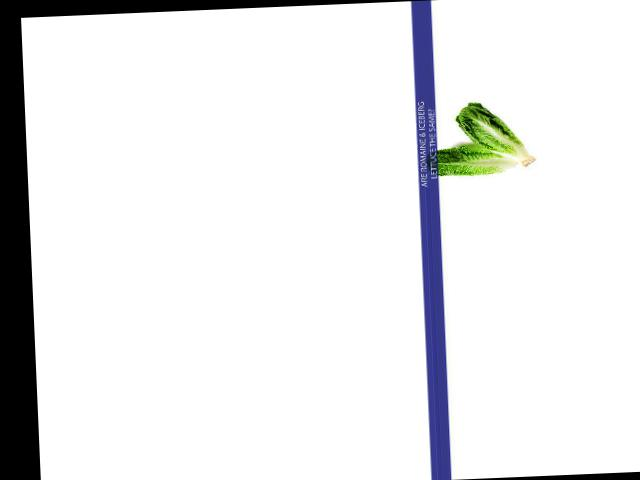lettuce: (450, 103, 545, 169)
